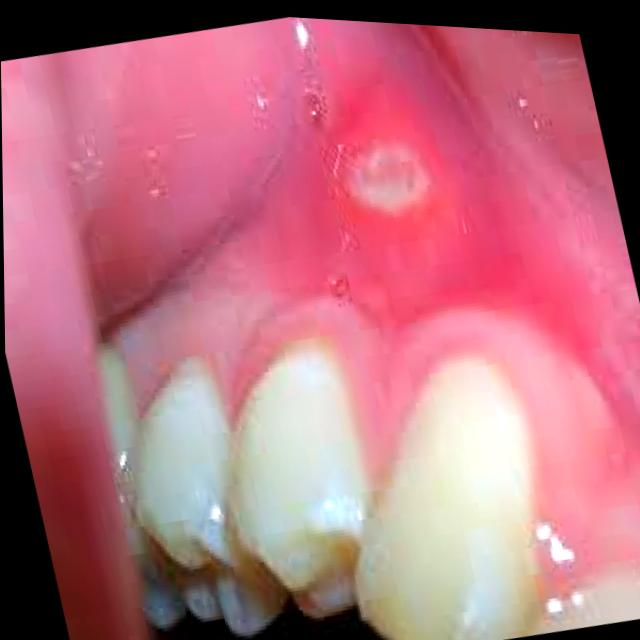ulcer: (342, 138, 429, 211)
